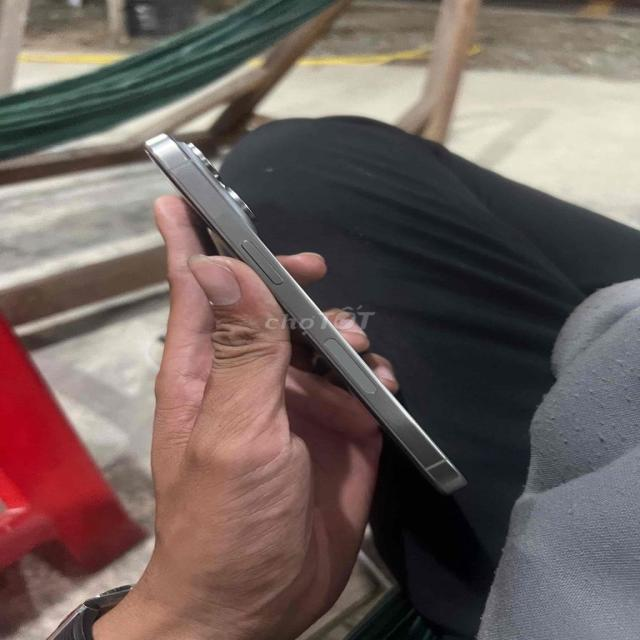gen_15: (127, 104, 500, 514)
